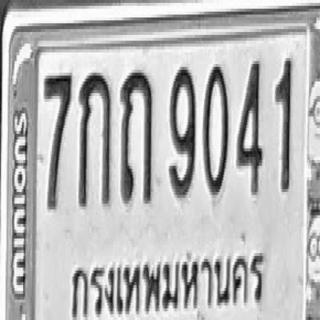A01: (78, 68, 112, 205)
A22: (120, 67, 153, 204)
N00: (202, 61, 229, 195)
N01: (275, 55, 292, 192)
N04: (236, 57, 263, 193)
N07: (44, 70, 72, 210)
N09: (169, 63, 195, 196)
P04: (67, 247, 266, 320)
